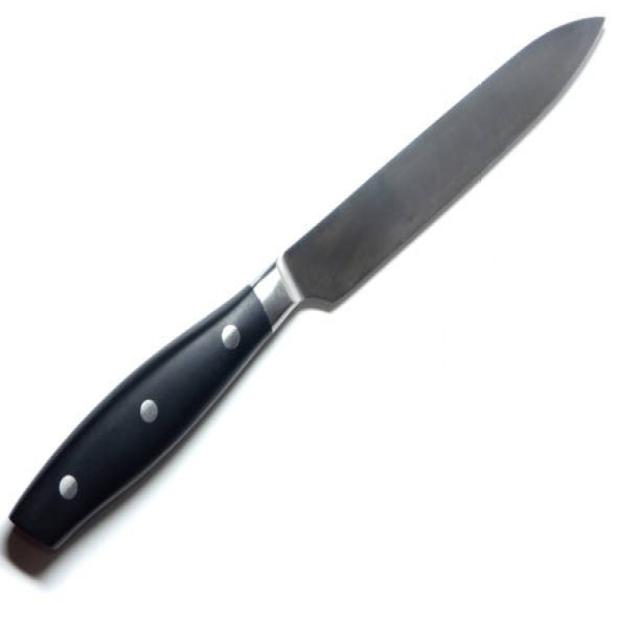knife: (1, 10, 611, 574)
